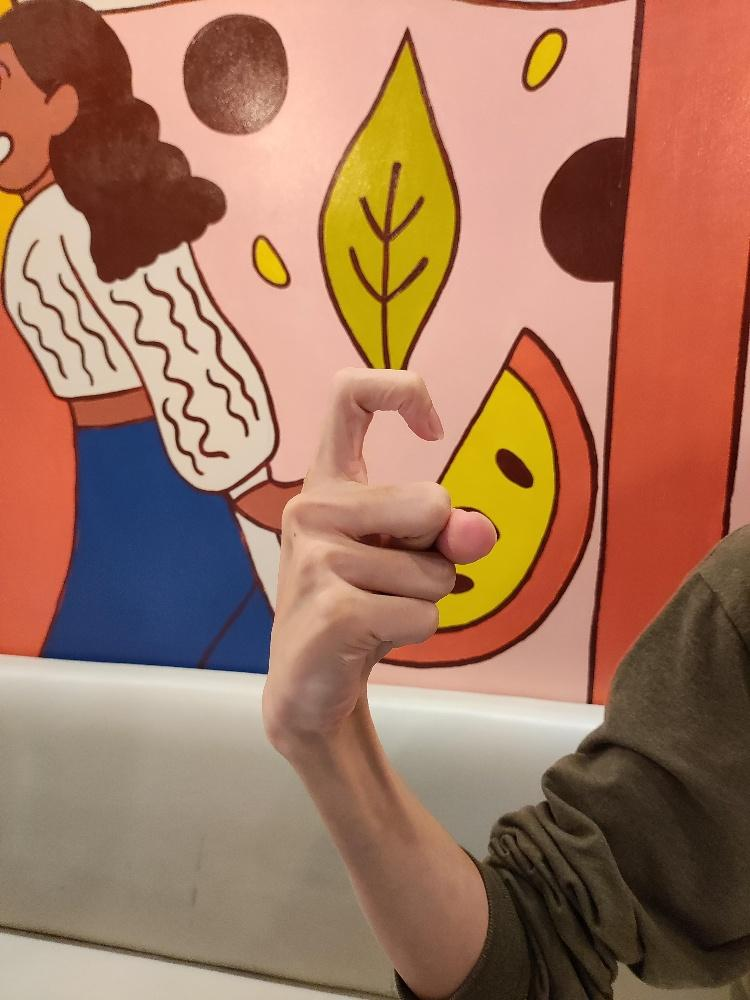x: (258, 363, 502, 760)
